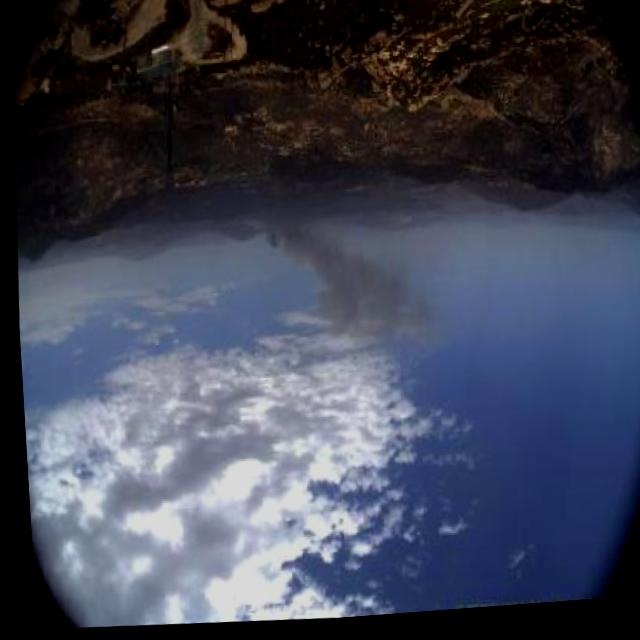no_helmet: (207, 177, 448, 410)
